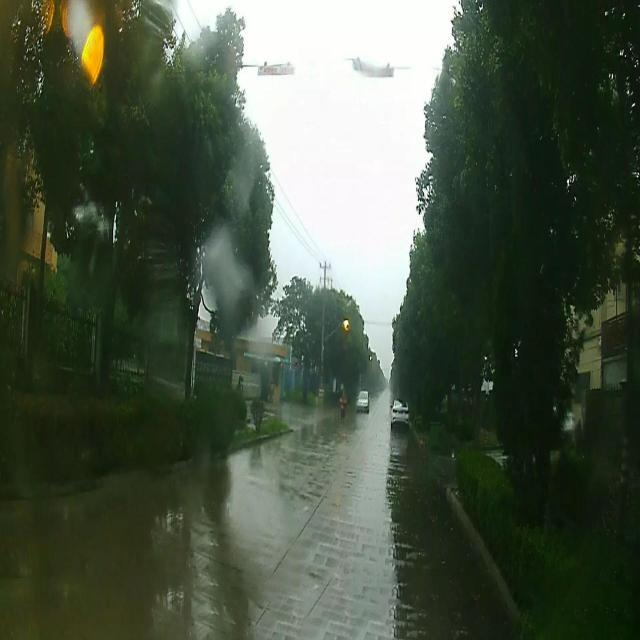car: (391, 396, 409, 432), (356, 390, 369, 413)
